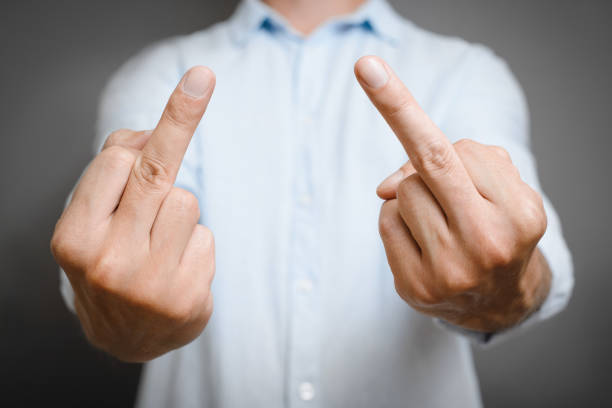insulting_gesture: (351, 52, 551, 340), (47, 63, 219, 369)
